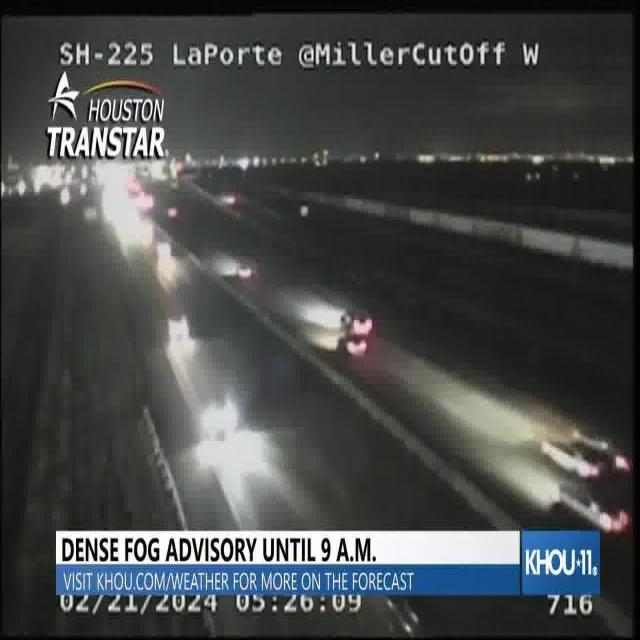Car: (202, 389, 242, 442), (347, 305, 376, 344), (339, 329, 370, 364), (236, 264, 259, 287)
